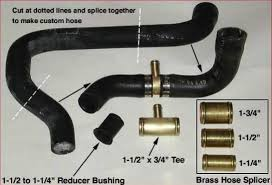radiator_hose: (6, 4, 220, 154), (78, 28, 247, 112)
